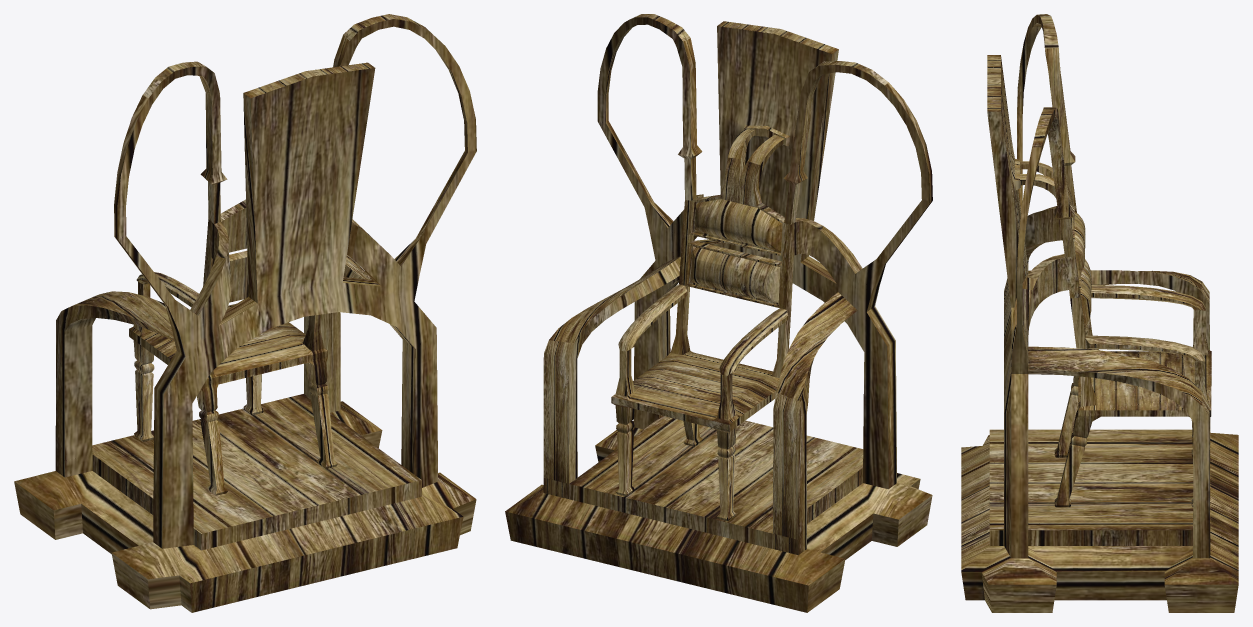
File: Chair.obj
3 renders of one model, left to right at view 1: azimuth 30°, elevation 25°; view 2: azimuth 150°, elevation 25°; view 3: azimuth 270°, elevation 25°, orthographic. The views are drawn at different scales.
Visible parts, largest first — view 1: Mesh; view 2: Mesh; view 3: Mesh.
Boxes of the visible parts, bbox=[...] form: Mesh: bbox=[14, 14, 476, 612]; Mesh: bbox=[505, 14, 932, 612]; Mesh: bbox=[961, 14, 1238, 612].
Bounding box in the file's own units: 0.8162 × 1.1 × 0.584.
